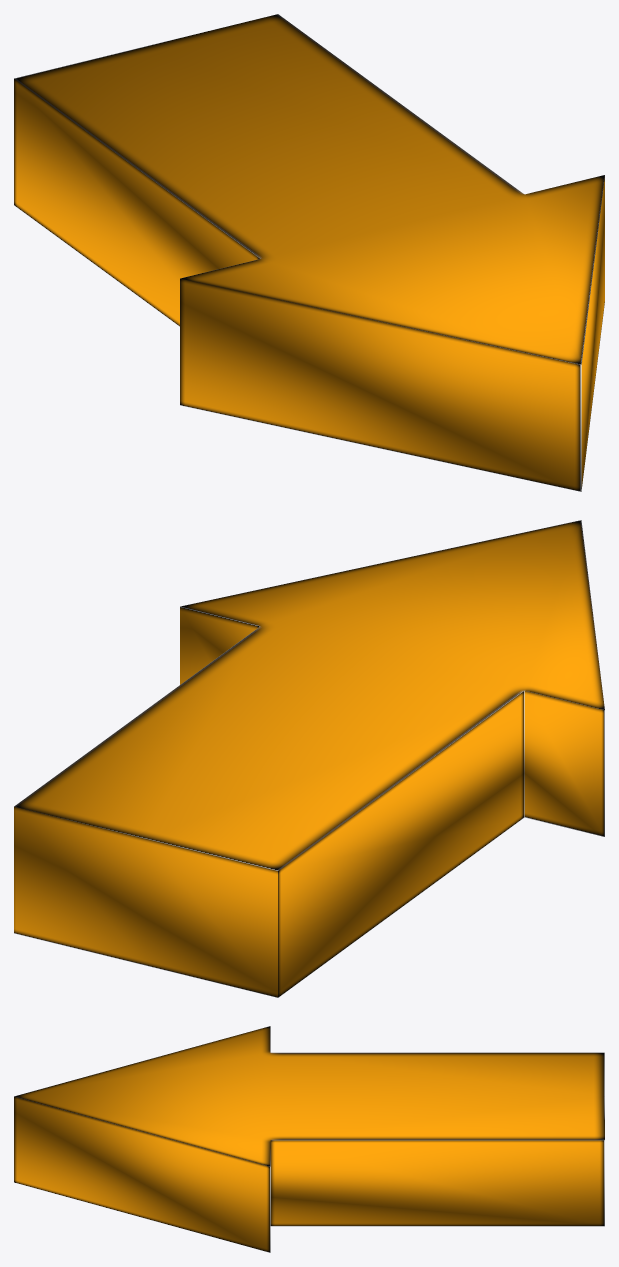
File: arrwo.FBX
The picture shows the model from 3 angles, top to bottom: view 1: azimuth 30°, elevation 25°; view 2: azimuth 150°, elevation 25°; view 3: azimuth 270°, elevation 25°; orthographic projection. The views are drawn at different scales.
Visible parts, largest first — view 1: Line002; view 2: Line002; view 3: Line002.
Part boxes in pixels (<box>): Line002: <box>14,14,604,491</box>; Line002: <box>14,520,604,997</box>; Line002: <box>14,1026,604,1252</box>.
Bounding box in the file's own units: 101 × 28.8 × 179.
1 material, 1 textured.
